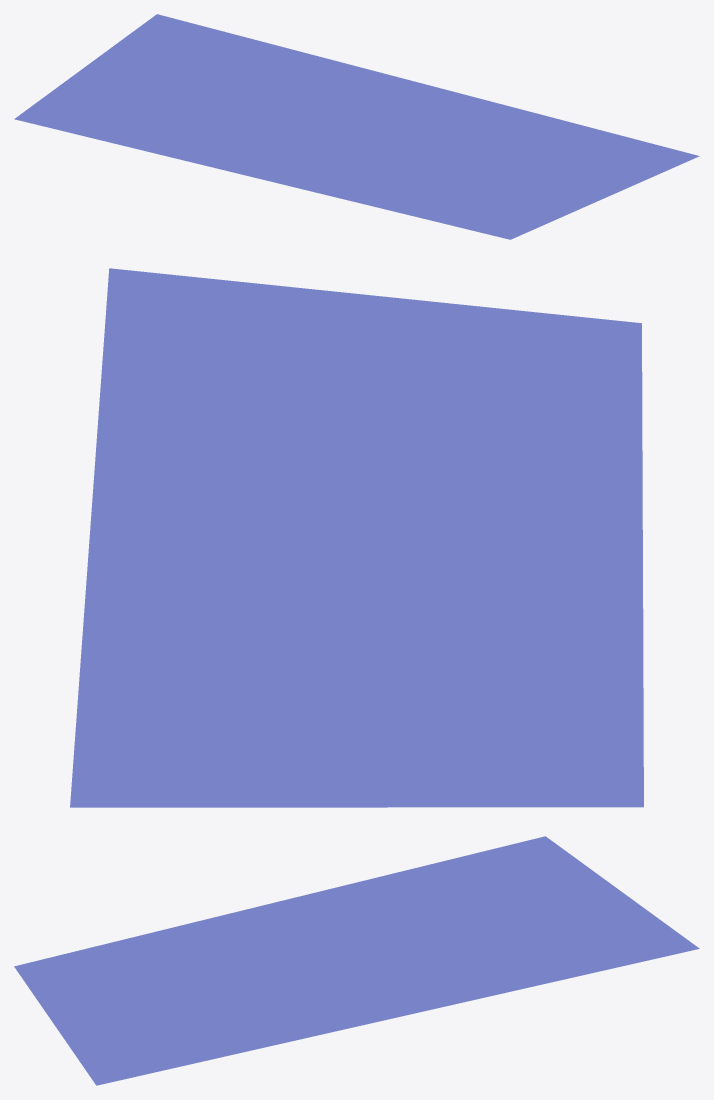
Rendered from terrain_W4A1_water.fbx.
3 renders of one model, top to bottom at view 1: azimuth 30°, elevation 25°; view 2: azimuth 150°, elevation 25°; view 3: azimuth 270°, elevation 25°, orthographic. The views are drawn at different scales.
Parts seen in each view (by area): view 1: W4A1water; view 2: W4A1water; view 3: W4A1water.
Part boxes in pixels (bbox=[...]): W4A1water: bbox=[14, 14, 699, 239]; W4A1water: bbox=[70, 268, 643, 807]; W4A1water: bbox=[14, 836, 699, 1085].
Size of the model in its own units: 16798 by 3.18e-12 by 19514.
